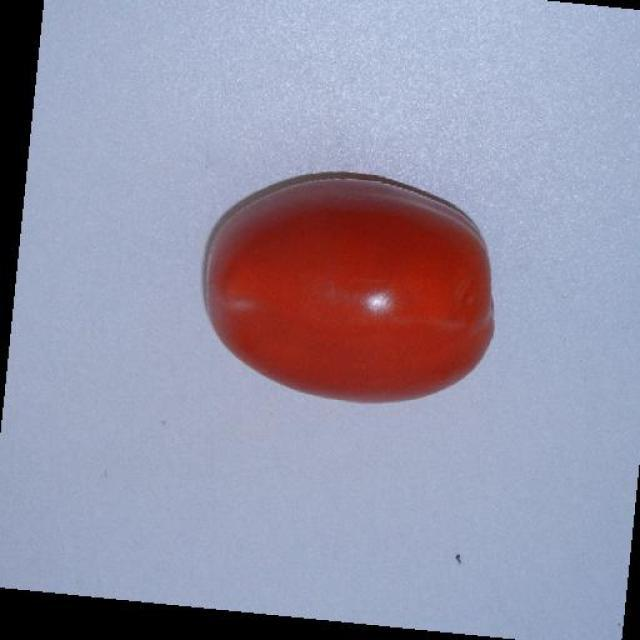Fresh Tomato: (189, 152, 521, 430)
